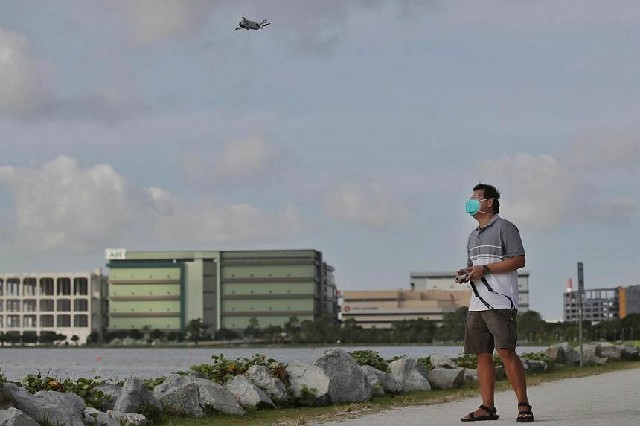maybay_khongnguoilai: (233, 11, 268, 34)
